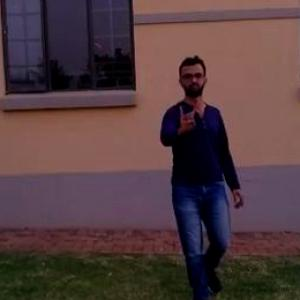takeoff-hand: (171, 97, 205, 137)
